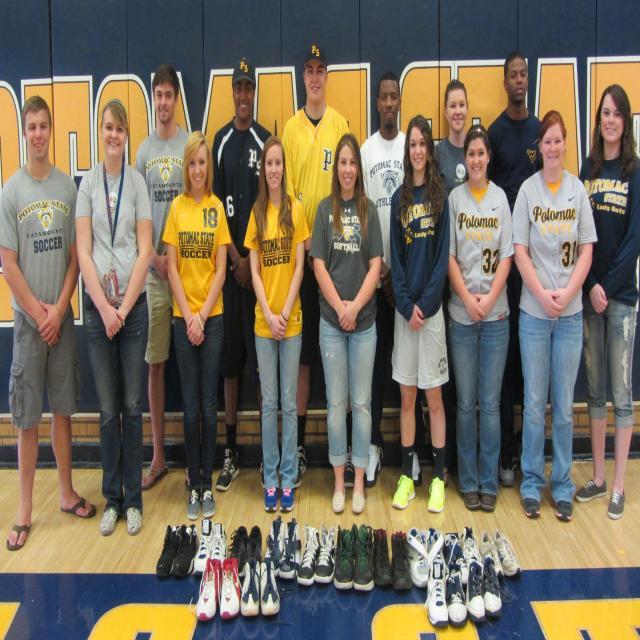body: (0, 92, 100, 556), (71, 92, 156, 544), (509, 108, 598, 526), (280, 39, 356, 491), (304, 128, 386, 521), (570, 81, 640, 524), (441, 116, 517, 517), (134, 63, 204, 491), (160, 124, 234, 526), (242, 134, 313, 518), (211, 58, 273, 493), (358, 70, 422, 488), (388, 111, 452, 517), (486, 48, 544, 487), (432, 77, 470, 490)
